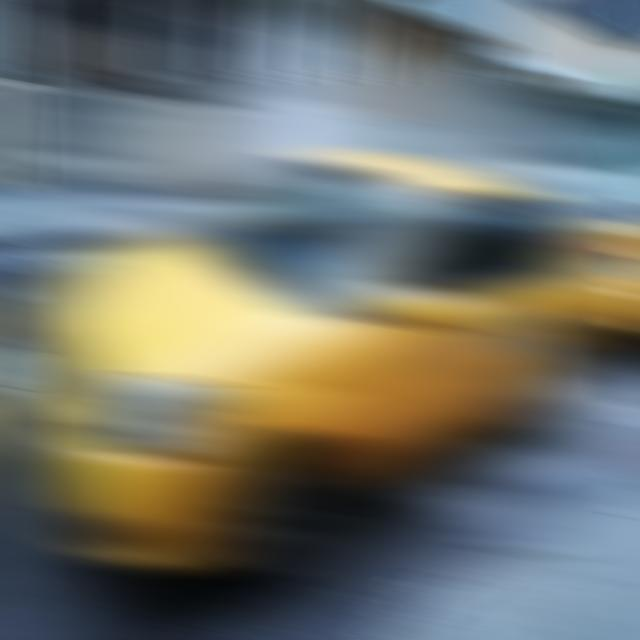Taxi: (12, 75, 640, 576)
